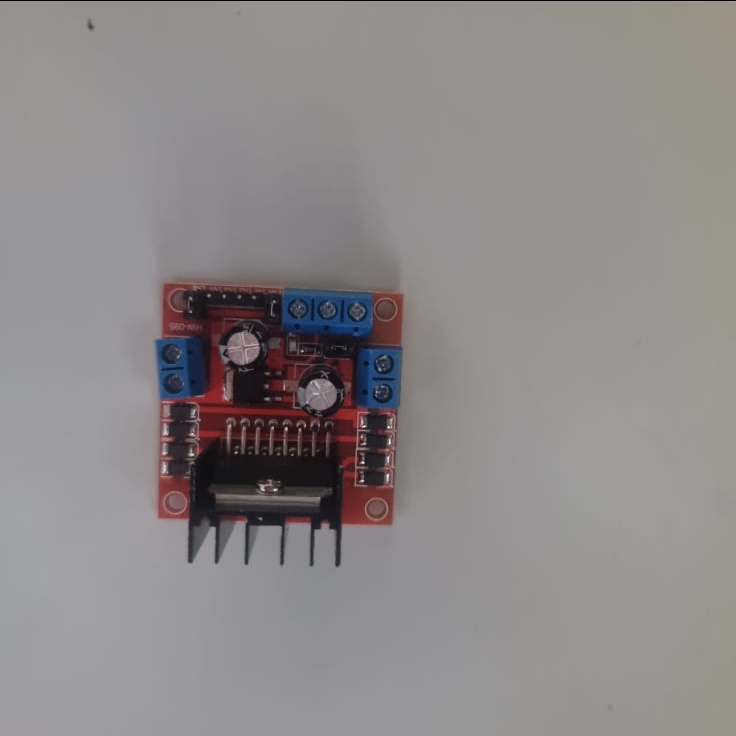MOTOR: (155, 287, 406, 562)
